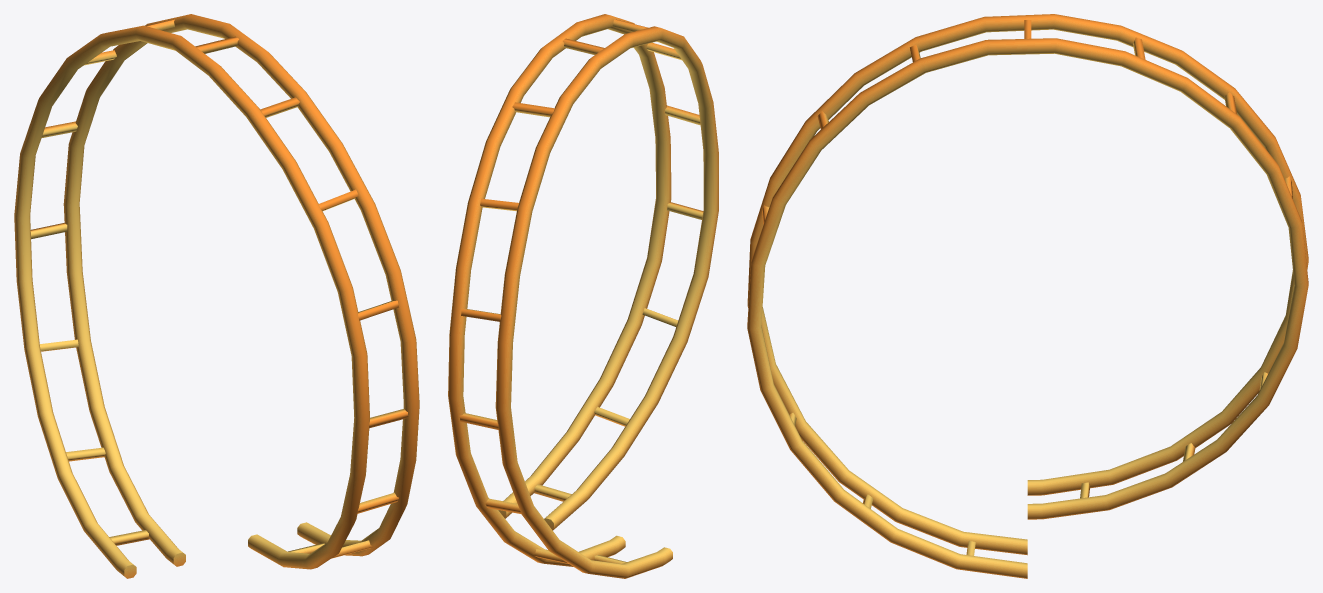
Rendered from mouse-looping.glb.
The picture shows the model from 3 angles, left to right: view 1: azimuth 30°, elevation 25°; view 2: azimuth 150°, elevation 25°; view 3: azimuth 270°, elevation 25°; orthographic projection. The views are drawn at different scales.
Parts seen in each view (by area): view 1: coaster-mouse-looping; view 2: coaster-mouse-looping; view 3: coaster-mouse-looping.
Boxes of the visible parts, <box> form: coaster-mouse-looping: <box>14,14,419,578</box>; coaster-mouse-looping: <box>448,14,718,578</box>; coaster-mouse-looping: <box>747,14,1308,578</box>.
Bounding box in the file's own units: 1.5 × 3.99 × 4.
Materials: 1 (1 with a texture image).
